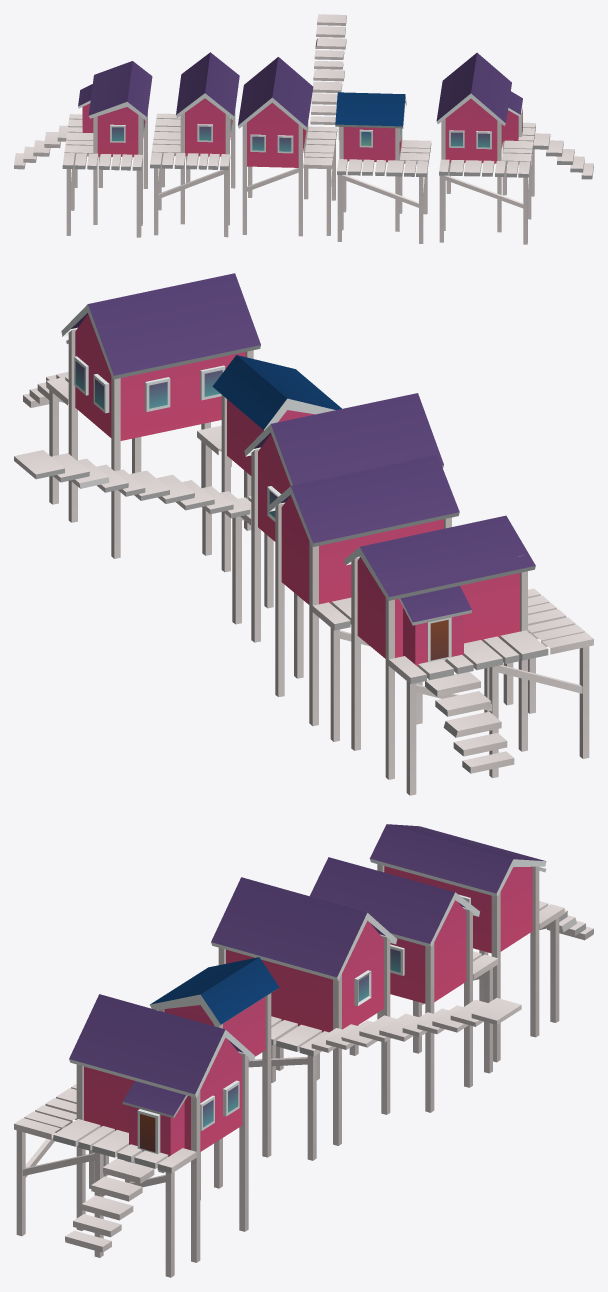
File: Svolvaer.fbx
3 renders of one model, top to bottom at view 1: azimuth 30°, elevation 25°; view 2: azimuth 150°, elevation 25°; view 3: azimuth 270°, elevation 25°, orthographic. The views are drawn at different scales.
Visible parts, largest first — view 1: Svolvaer; view 2: Svolvaer; view 3: Svolvaer.
Part boxes in pixels (x1,y1,x2,y2): Svolvaer: [14, 14, 593, 244]; Svolvaer: [14, 273, 593, 795]; Svolvaer: [14, 824, 593, 1277].
Bounding box in the file's own units: 1.31 × 0.4023 × 0.9704.
1 material, 1 textured.
